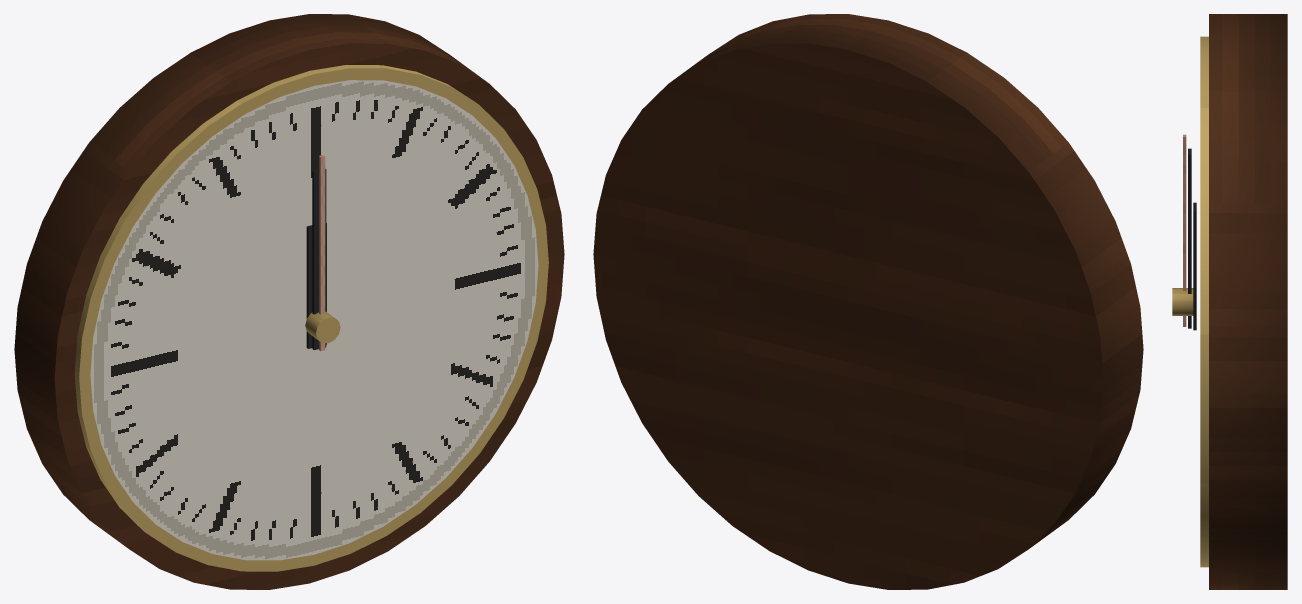
The model's file is wall_clock.glb.
3 renders of one model, left to right at view 1: azimuth 30°, elevation 25°; view 2: azimuth 150°, elevation 25°; view 3: azimuth 270°, elevation 25°, orthographic. The views are drawn at different scales.
Visible parts, largest first — view 1: panels, body, hand_m, hand_s, hand_h; view 2: body; view 3: body, hand_s, hand_m, hand_h.
Part boxes in pixels (x1,y1,x2,y2): panels: (90,80,538,560); body: (14,14,564,589); hand_m: (312,169,326,350); hand_s: (319,155,325,351); hand_h: (306,223,326,348); body: (593,14,1143,589); body: (1172,14,1287,589); hand_s: (1183,134,1186,326); hand_m: (1188,148,1191,328); hand_h: (1193,202,1196,330).
Bounding box in the file's own units: 0.33 × 0.33 × 0.066.
Materials: 5 (3 with a texture image).
